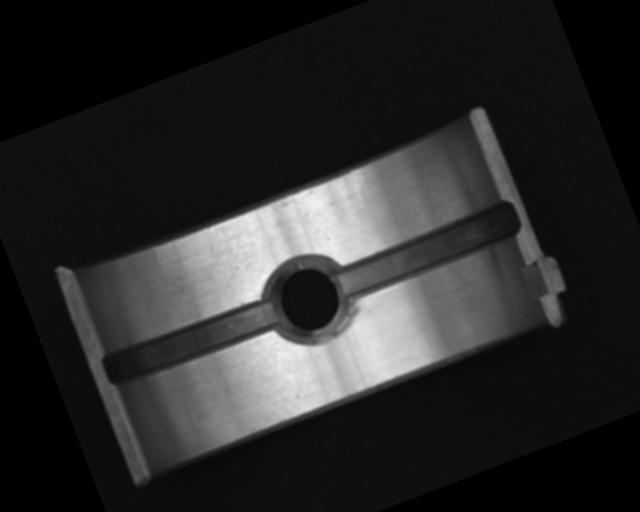gap: (331, 195, 524, 305), (99, 292, 283, 390)
hole: (251, 239, 366, 360)
